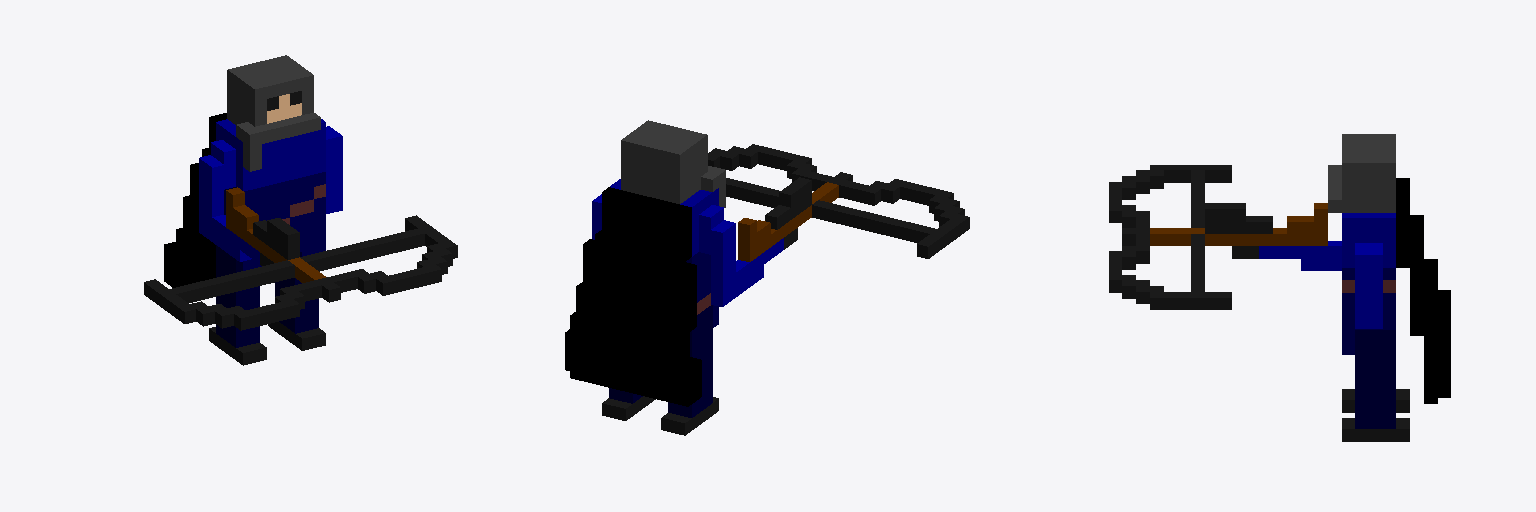
3 views of the same model, side by side, from view 1: azimuth 30°, elevation 25°; view 2: azimuth 150°, elevation 25°; view 3: azimuth 270°, elevation 25° (orthographic).
Parts seen in each view (by area): view 1: object 1; view 2: object 1; view 3: object 1.
Boxes of the visible parts, <box> form: object 1: <box>144,55,457,365</box>; object 1: <box>565,120,969,435</box>; object 1: <box>1109,134,1450,441</box>.
Bounding box in the file's own units: 2.3 × 2.2 × 2.5.
Materials: 1 (1 with a texture image).